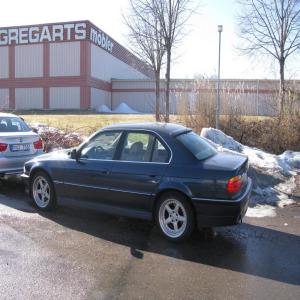Vehicle-registration-plate: (12, 145, 31, 152)
